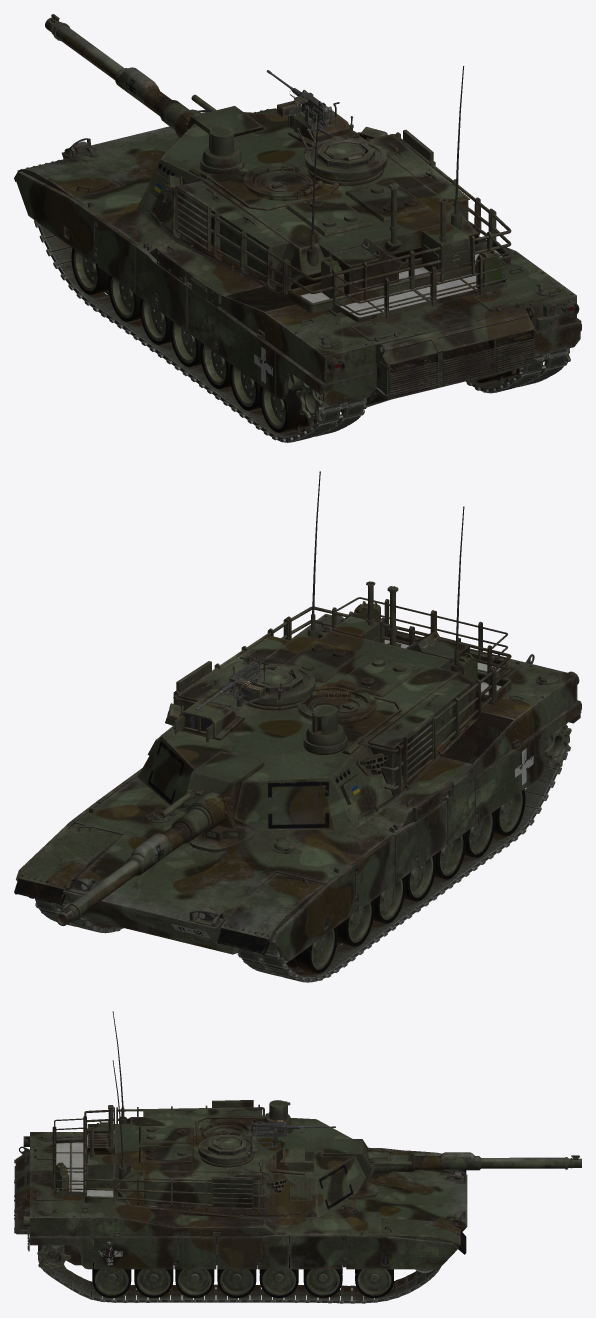
The model's file is veh_abrams.glb.
3 views of the same model, one above another, from view 1: azimuth 30°, elevation 25°; view 2: azimuth 150°, elevation 25°; view 3: azimuth 270°, elevation 25° (orthographic). The views are drawn at different scales.
Visible parts, largest first — view 1: Turret, Hull, L_Track, L_Wheel8, R_Track, L_Links, L_Wheel2, L_Wheel3, L_Wheel4, L_Wheel5, L_Wheel7, L_Wheel6 (+1 smaller); view 2: Turret, Hull, L_Track, L_Wheel2, L_Links, L_Wheel3, L_Wheel4, L_Wheel5, L_Wheel8, L_Wheel6, L_Wheel7, R_Track (+1 smaller); view 3: Turret, Hull, R_Track, R_Links, R_Wheel4, R_Wheel3, R_Wheel6, R_Wheel8, R_Wheel7, R_Wheel5, R_Wheel2, R_Cog.
Boxes of the visible parts, x1,y1,x2,y2 form: Turret: (45, 14, 511, 322); Hull: (14, 108, 581, 412); L_Track: (38, 223, 364, 442); L_Wheel8: (259, 386, 316, 432); R_Track: (466, 348, 567, 393); L_Links: (34, 220, 366, 442); L_Wheel2: (71, 248, 109, 294); L_Wheel3: (108, 275, 140, 321); L_Wheel4: (139, 298, 171, 344); L_Wheel5: (170, 320, 201, 367); L_Wheel7: (229, 364, 260, 410); L_Wheel6: (200, 342, 230, 389); Turret: (56, 471, 511, 925); Hull: (14, 614, 581, 961); L_Track: (237, 728, 566, 982); L_Wheel2: (285, 927, 337, 973); L_Links: (235, 724, 569, 981); L_Wheel3: (336, 900, 374, 946); L_Wheel4: (373, 877, 405, 923); L_Wheel5: (404, 855, 435, 901); L_Wheel8: (494, 790, 525, 835); L_Wheel6: (434, 833, 465, 879); L_Wheel7: (464, 811, 495, 857); R_Track: (34, 896, 123, 933); Turret: (52, 1011, 581, 1219); Hull: (14, 1132, 467, 1269); R_Track: (38, 1238, 440, 1303); R_Links: (39, 1245, 437, 1303); R_Wheel4: (259, 1256, 298, 1297); R_Wheel3: (303, 1265, 342, 1297); R_Wheel6: (175, 1261, 214, 1297); R_Wheel8: (92, 1262, 131, 1297); R_Wheel7: (134, 1269, 173, 1297); R_Wheel5: (217, 1269, 256, 1297); R_Wheel2: (355, 1269, 393, 1297); R_Cog: (37, 1245, 70, 1274).
Bounding box in the file's own units: 0.3719 × 0.4393 × 1.
Materials: 28 (28 with a texture image).
